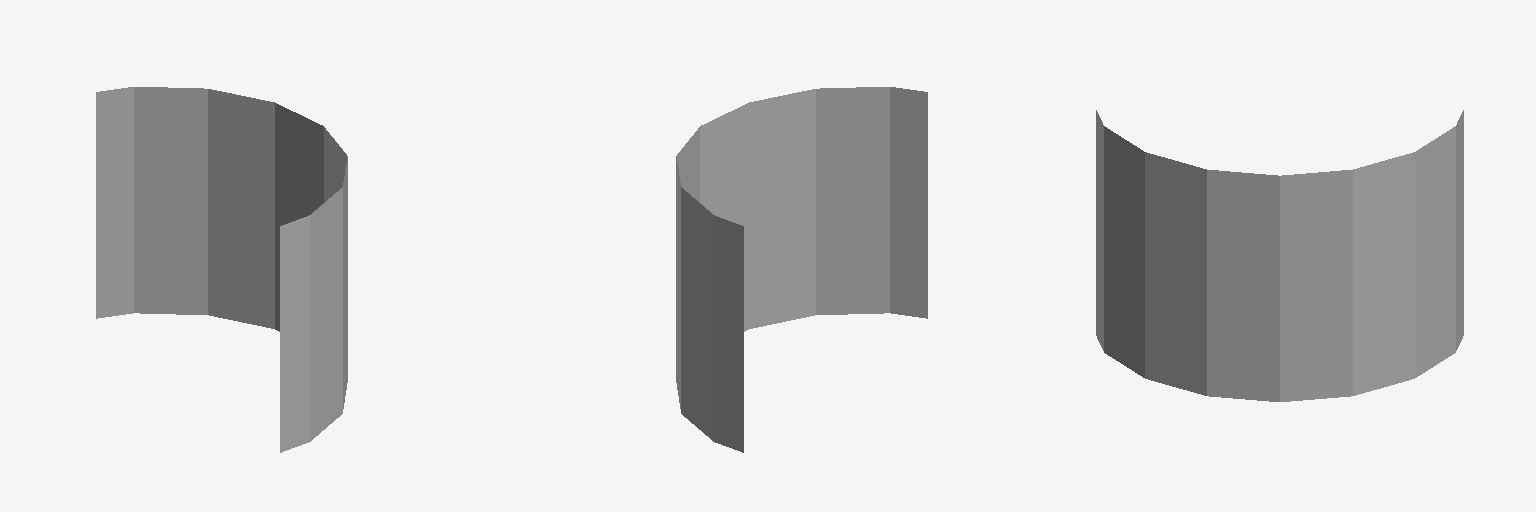
Rendered from table7-2-bigpockets.obj.
3 views of the same model, side by side, from view 1: azimuth 30°, elevation 25°; view 2: azimuth 150°, elevation 25°; view 3: azimuth 270°, elevation 25° (orthographic).
Size of the model in its own units: 2.3 by 3.67 by 5.39.